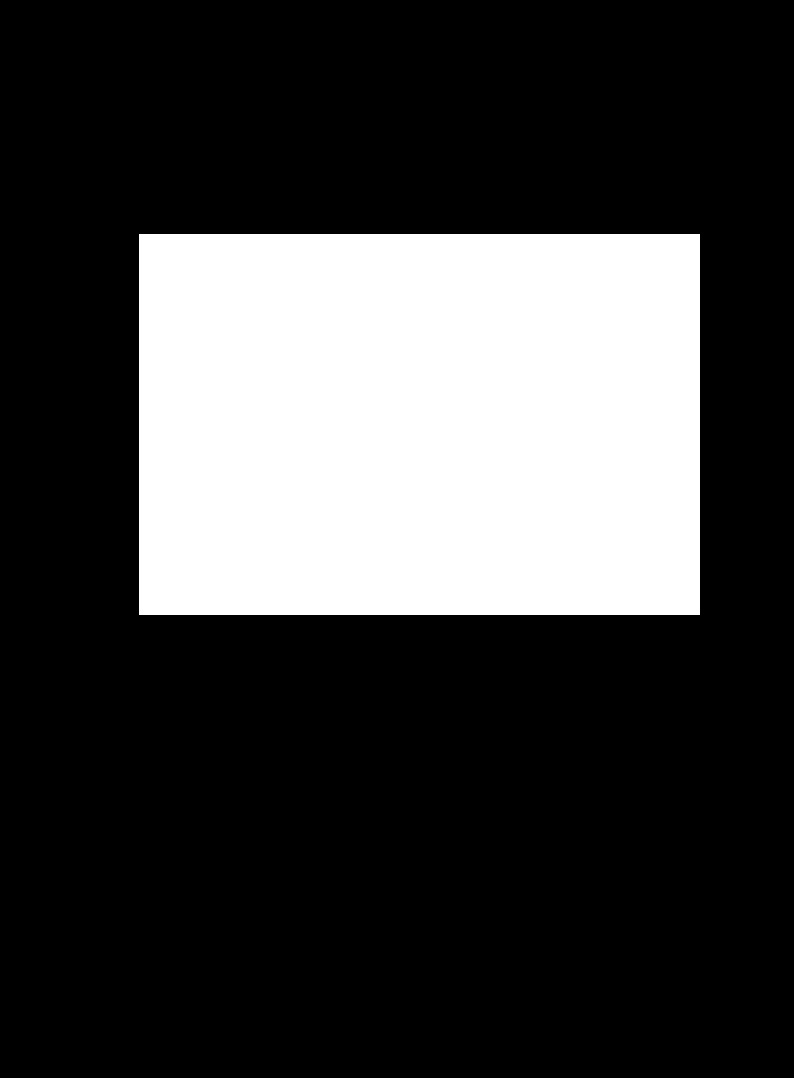table: (139, 234, 699, 614)
